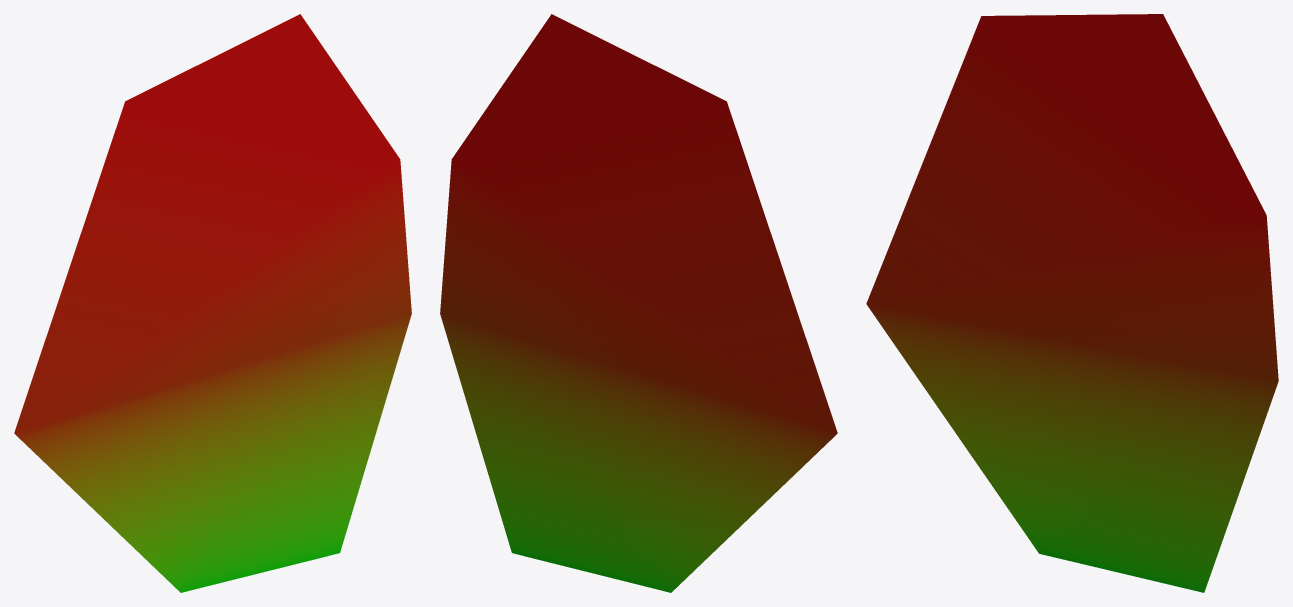
File: Cotton Grass_LOD4_Var5_wlykecdia.fbx
3 views of the same model, side by side, from view 1: azimuth 30°, elevation 25°; view 2: azimuth 150°, elevation 25°; view 3: azimuth 330°, elevation 25° (orthographic). The views are drawn at different scales.
Visible parts, largest first — view 1: _iqdi_Var5_LOD4; view 2: _iqdi_Var5_LOD4; view 3: _iqdi_Var5_LOD4.
Part boxes in pixels (box(x1,y1,x2,y2)): _iqdi_Var5_LOD4: box(14, 14, 411, 592); _iqdi_Var5_LOD4: box(440, 14, 837, 592); _iqdi_Var5_LOD4: box(866, 14, 1278, 592).
Bounding box in the file's own units: 22.7 × 29.98 × 2.97e-07.
